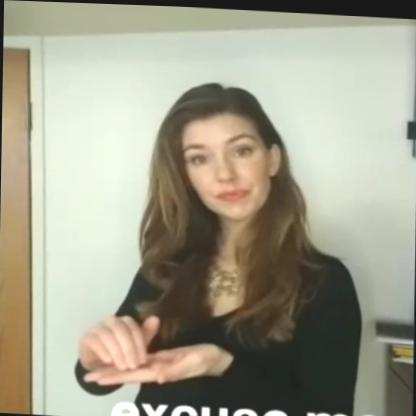ExcuseMe: (62, 287, 240, 413)
